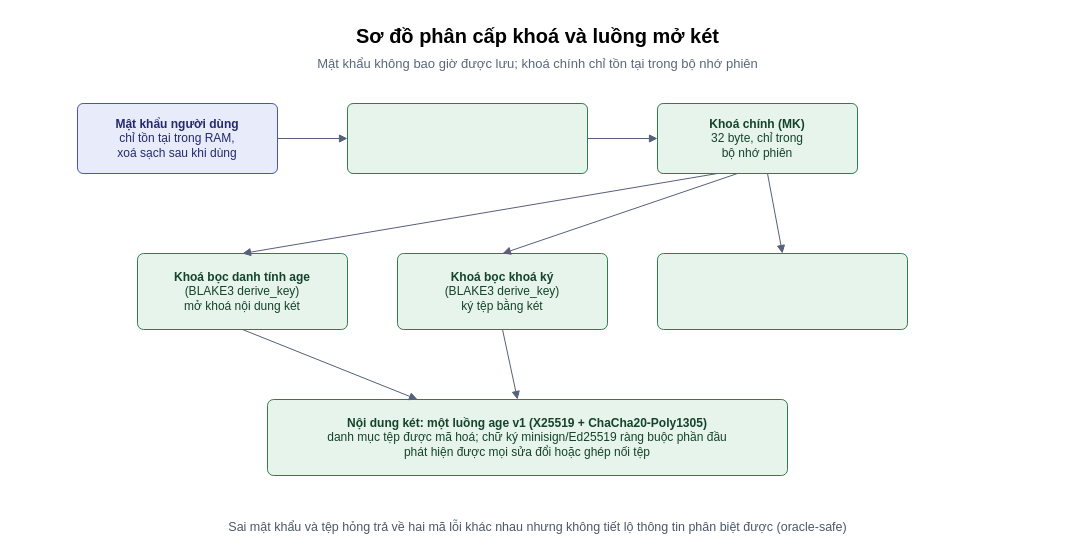
Some shapes in this 1074 by 552 pixel diagram are drawn without their labels. Here are the shapes that lost their labels. From the top down, the centre of each, then its label:
At point (467, 138): "Argon2id ngưỡng tối thiểu 19 MiB, 2 vòng lặp (theo OWASP)".
At point (782, 291): "Khoá phục hồi (tuỳ chọn) chia Shamir k trong n khôi phục khi mất mật khẩu".
